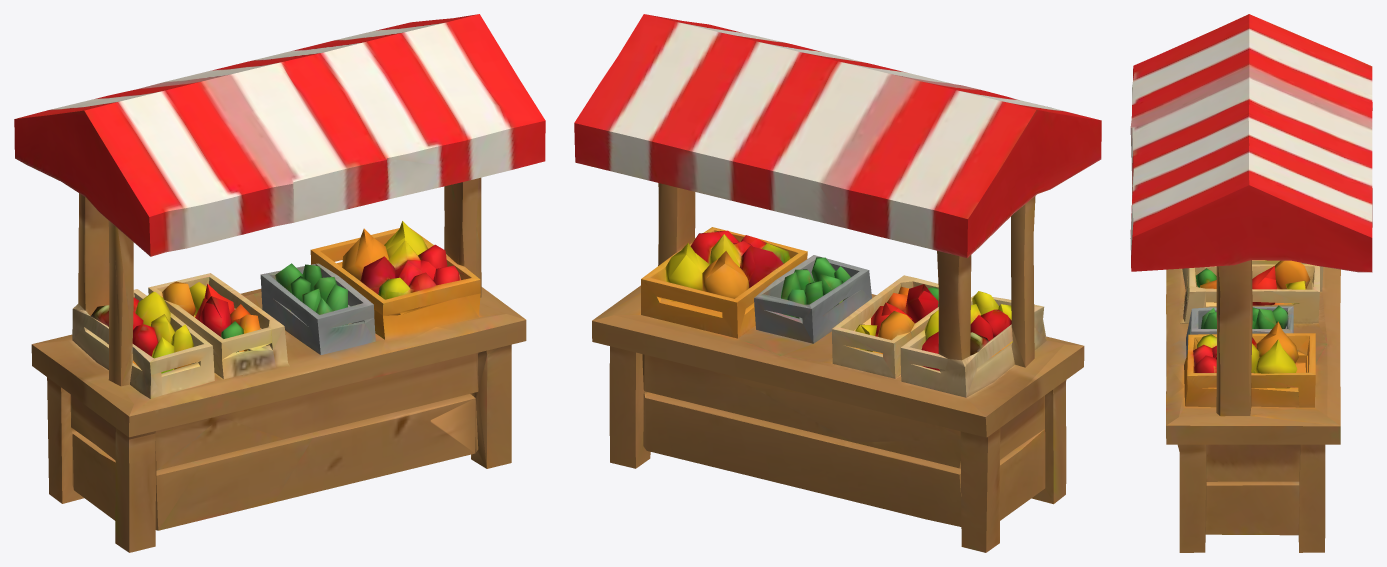
The model's file is stall.glb.
3 renders of one model, left to right at view 1: azimuth 30°, elevation 25°; view 2: azimuth 150°, elevation 25°; view 3: azimuth 270°, elevation 25°, orthographic. The views are drawn at different scales.
Parts seen in each view (by area): view 1: model; view 2: model; view 3: model.
Boxes of the visible parts, x1,y1,x2,y2 form: model: [14, 14, 545, 552]; model: [574, 14, 1101, 552]; model: [1130, 14, 1372, 552].
Bounding box in the file's own units: 1.89 × 1.9 × 1.12.
1 material, 1 textured.
